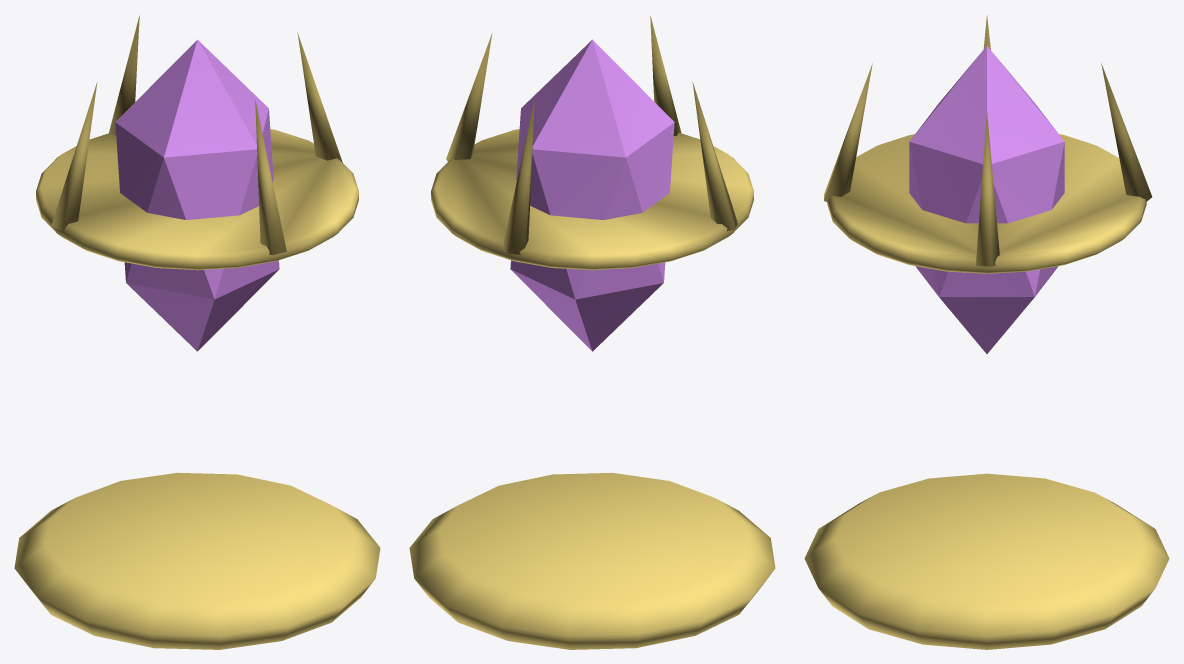
File: artifact.fbx
3 renders of one model, left to right at view 1: azimuth 30°, elevation 25°; view 2: azimuth 150°, elevation 25°; view 3: azimuth 270°, elevation 25°, orthographic.
Visible parts, largest first — view 1: Base, Crystal, Halo@Crystal, Prong@Crystal.003, Prong@Crystal.002, Prong@Crystal, Prong@Crystal.001; view 2: Base, Crystal, Halo@Crystal, Prong@Crystal.001, Prong@Crystal.002, Prong@Crystal, Prong@Crystal.003; view 3: Base, Crystal, Halo@Crystal, Prong@Crystal, Prong@Crystal.003, Prong@Crystal.001.
Boxes of the visible parts, x1,y1,x2,y2 form: Base: (14,472,380,649); Crystal: (115,39,279,351); Halo@Crystal: (36,129,358,270); Prong@Crystal.003: (255,100,286,255); Prong@Crystal.002: (51,82,97,231); Prong@Crystal: (297,33,342,162); Prong@Crystal.001: (109,15,139,135); Base: (409,472,775,649); Crystal: (510,39,674,351); Halo@Crystal: (431,129,753,270); Prong@Crystal.001: (503,100,534,254); Prong@Crystal.002: (692,82,737,231); Prong@Crystal: (446,33,492,161); Prong@Crystal.003: (650,15,681,135); Base: (804,473,1169,649); Crystal: (909,46,1064,353); Halo@Crystal: (827,134,1146,273); Prong@Crystal: (976,112,999,266); Prong@Crystal.003: (824,63,872,202); Prong@Crystal.001: (1101,63,1152,202).
Bounding box in the file's own units: 0.48 × 0.774 × 0.48.
